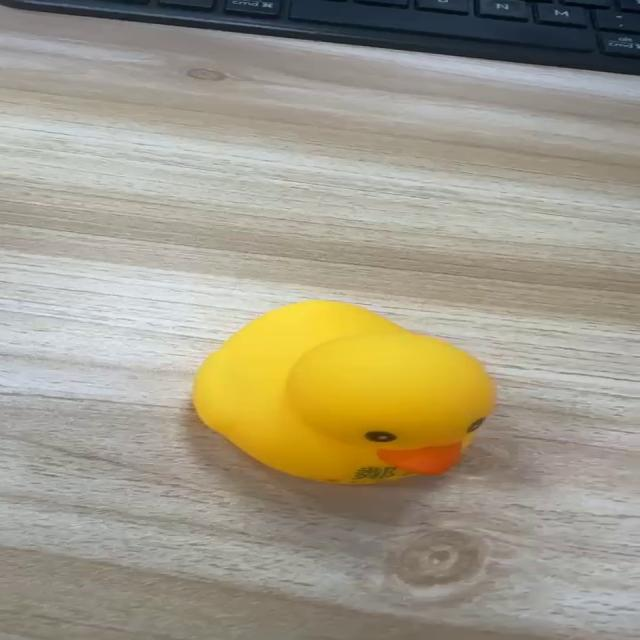yellow_duck: (190, 298, 498, 486)
